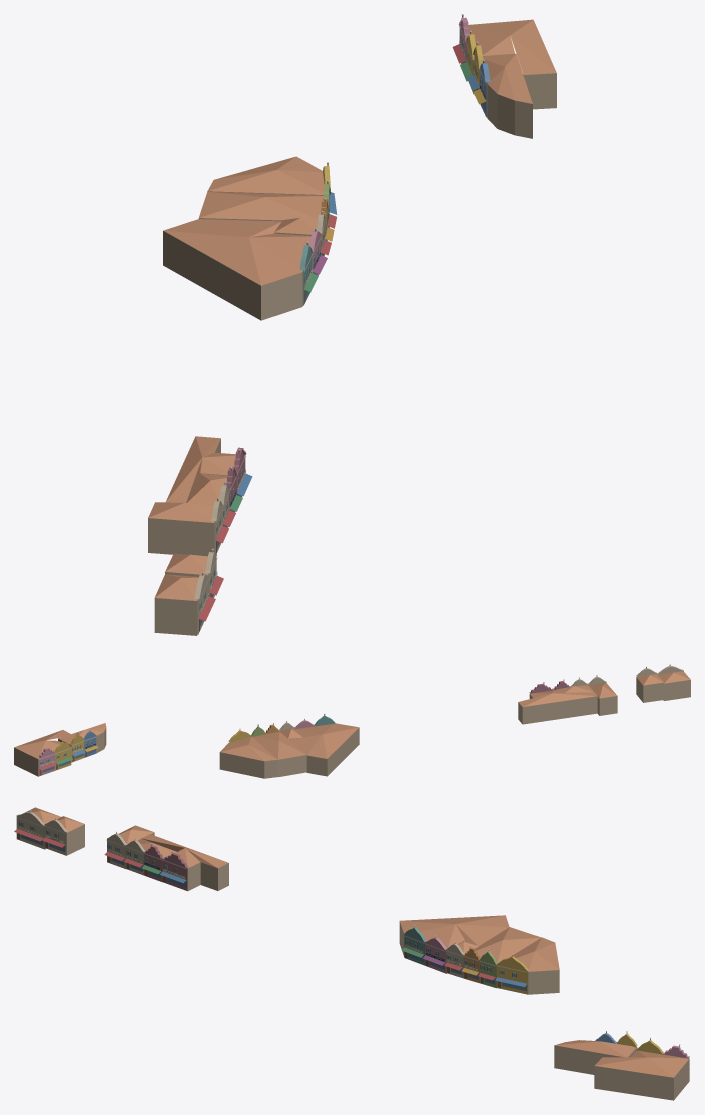
File: ora_west.glb
3 views of the same model, one above another, from view 1: azimuth 30°, elevation 25°; view 2: azimuth 150°, elevation 25°; view 3: azimuth 270°, elevation 25° (orthographic). The views are drawn at different scales.
Visible parts, largest first — view 1: ora_west_lod0; view 2: ora_west_lod0; view 3: ora_west_lod0.
Part boxes in pixels (bbox=[...]): ora_west_lod0: bbox=[148, 14, 556, 635]; ora_west_lod0: bbox=[14, 664, 690, 778]; ora_west_lod0: bbox=[14, 807, 689, 1100].
Size of what is drawn, in the model's own units: 148 by 11.81 by 153.
3 materials, 1 textured.
